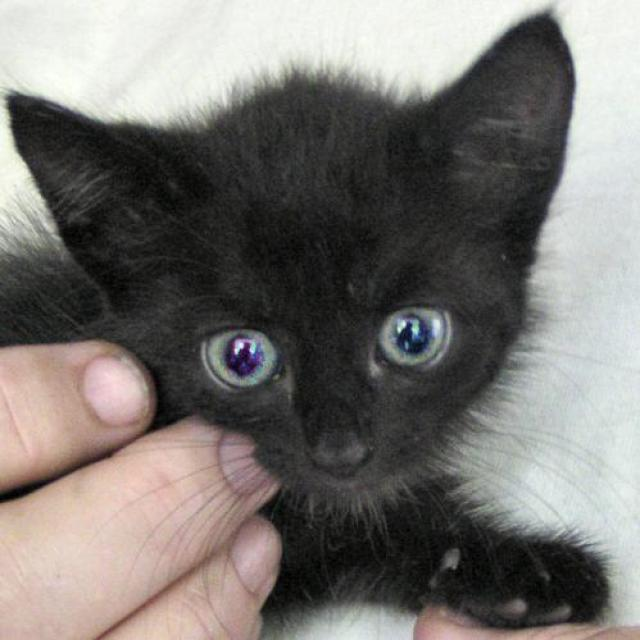Cats: (0, 5, 619, 637)
